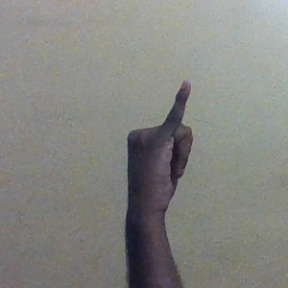I: (123, 79, 200, 212)
